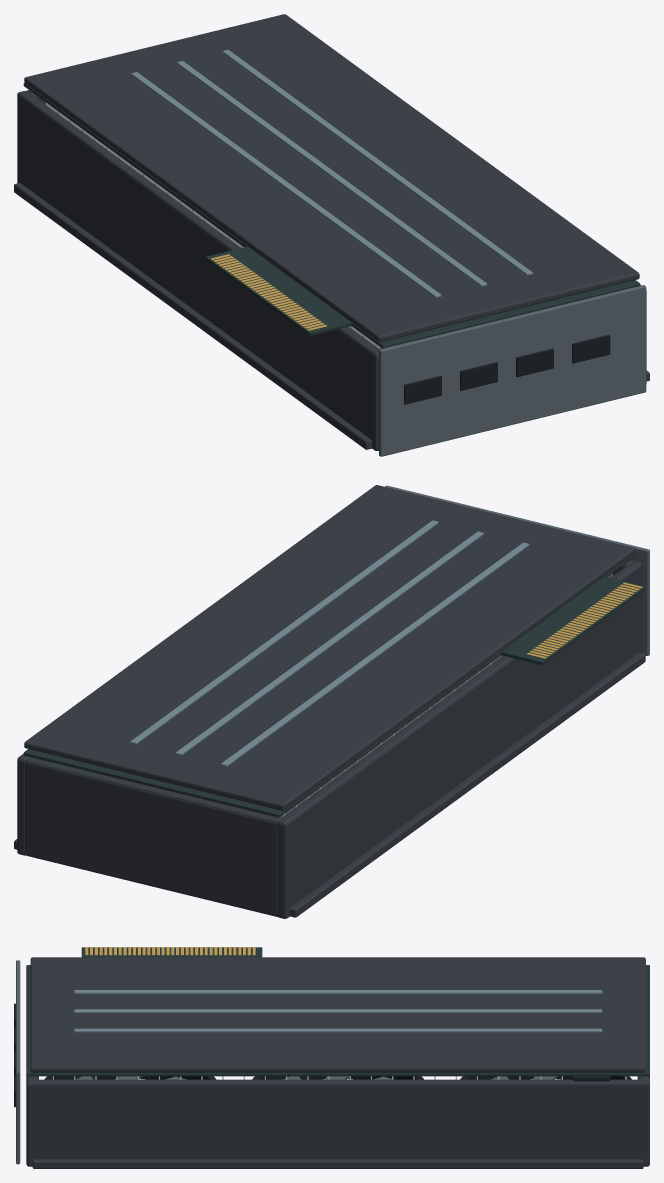
File: gpu.glb
The picture shows the model from 3 angles, top to bottom: view 1: azimuth 30°, elevation 25°; view 2: azimuth 150°, elevation 25°; view 3: azimuth 270°, elevation 25°; orthographic projection. The views are drawn at different scales.
Visible parts, largest first — view 1: GPU_Paint_Graphite, GPU_Metal_Dark_Steel, GPU_Accent_Slate, GPU_PCB_Deep_Slate, GPU_Plastic_Black, GPU_Contact_Gold, GPU_Metal_Aluminum; view 2: GPU_Paint_Graphite, GPU_Accent_Slate, GPU_PCB_Deep_Slate, GPU_Contact_Gold, GPU_Metal_Dark_Steel, GPU_Metal_Aluminum; view 3: GPU_Paint_Graphite, GPU_Accent_Slate, GPU_PCB_Deep_Slate, GPU_Plastic_Black, GPU_Contact_Gold, GPU_Metal_Dark_Steel.
Part boxes in pixels (bbox=[...]): GPU_Paint_Graphite: bbox=[14, 14, 649, 450]; GPU_Metal_Dark_Steel: bbox=[379, 285, 646, 456]; GPU_Accent_Slate: bbox=[131, 49, 532, 297]; GPU_PCB_Deep_Slate: bbox=[23, 83, 640, 348]; GPU_Plastic_Black: bbox=[404, 334, 610, 404]; GPU_Contact_Gold: bbox=[210, 254, 326, 330]; GPU_Metal_Aluminum: bbox=[45, 102, 380, 348]; GPU_Paint_Graphite: bbox=[14, 485, 645, 918]; GPU_Accent_Slate: bbox=[130, 520, 529, 766]; GPU_PCB_Deep_Slate: bbox=[23, 553, 645, 817]; GPU_Contact_Gold: bbox=[527, 582, 642, 658]; GPU_Metal_Dark_Steel: bbox=[385, 485, 649, 655]; GPU_Metal_Aluminum: bbox=[281, 573, 612, 816]; GPU_Paint_Graphite: bbox=[26, 957, 649, 1168]; GPU_Accent_Slate: bbox=[74, 990, 602, 1032]; GPU_PCB_Deep_Slate: bbox=[26, 947, 649, 1076]; GPU_Plastic_Black: bbox=[14, 1003, 631, 1107]; GPU_Contact_Gold: bbox=[85, 947, 255, 955]; GPU_Metal_Dark_Steel: bbox=[16, 960, 20, 1164].
Bounding box in the file's own units: 0.1505 × 0.0557 × 0.306.
